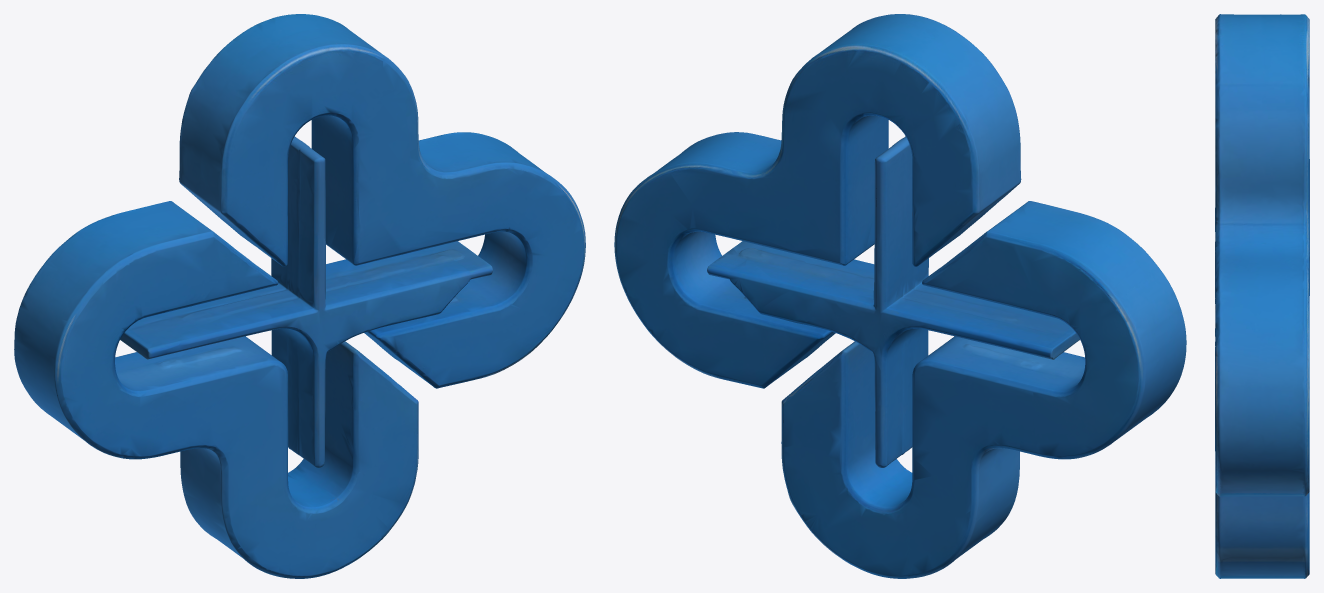
The model's file is tironi-symbol-3d.glb.
The picture shows the model from 3 angles, left to right: view 1: azimuth 30°, elevation 25°; view 2: azimuth 150°, elevation 25°; view 3: azimuth 270°, elevation 25°; orthographic projection. The views are drawn at different scales.
Visible parts, largest first — view 1: tripo_node_4695ac68-07d3-469d-afe5-4dd00d765c0d; view 2: tripo_node_4695ac68-07d3-469d-afe5-4dd00d765c0d; view 3: tripo_node_4695ac68-07d3-469d-afe5-4dd00d765c0d.
Boxes of the visible parts, <box> form: tripo_node_4695ac68-07d3-469d-afe5-4dd00d765c0d: <box>14,14,585,578</box>; tripo_node_4695ac68-07d3-469d-afe5-4dd00d765c0d: <box>614,14,1186,578</box>; tripo_node_4695ac68-07d3-469d-afe5-4dd00d765c0d: <box>1215,14,1309,578</box>.
Size of the model in its own units: 1 by 0.9528 by 0.1507.
1 material, 1 textured.
